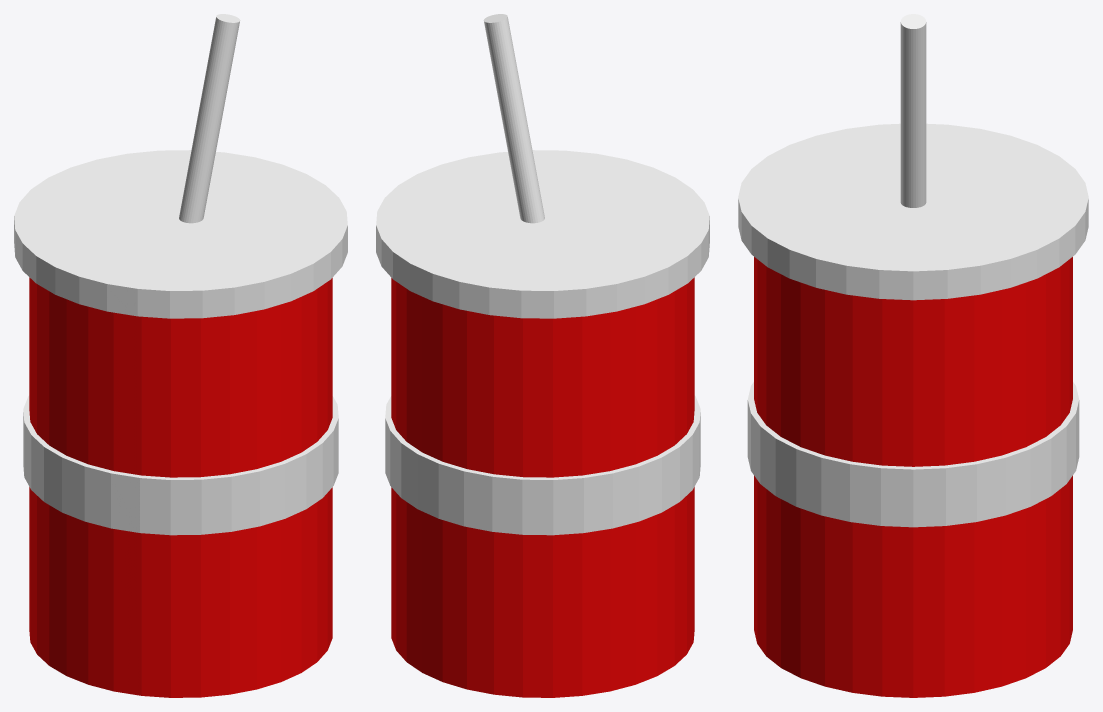
The model's file is cola.glb.
3 renders of one model, left to right at view 1: azimuth 30°, elevation 25°; view 2: azimuth 150°, elevation 25°; view 3: azimuth 270°, elevation 25°, orthographic. The views are drawn at different scales.
Parts seen in each view (by area): view 1: Cylinder, Cylinder.002, Cylinder.001, Cylinder.003; view 2: Cylinder, Cylinder.002, Cylinder.001, Cylinder.003; view 3: Cylinder, Cylinder.002, Cylinder.001, Cylinder.003.
Part boxes in pixels (left/top/right/bottom): Cylinder: left=29, top=277, right=332, bottom=697; Cylinder.002: left=14, top=150, right=347, bottom=318; Cylinder.001: left=23, top=395, right=338, bottom=535; Cylinder.003: left=179, top=14, right=240, bottom=223; Cylinder: left=391, top=277, right=694, bottom=697; Cylinder.002: left=376, top=150, right=709, bottom=318; Cylinder.001: left=385, top=395, right=700, bottom=535; Cylinder.003: left=483, top=14, right=544, bottom=223; Cylinder: left=754, top=257, right=1072, bottom=697; Cylinder.002: left=738, top=123, right=1088, bottom=300; Cylinder.001: left=747, top=382, right=1079, bottom=527; Cylinder.003: left=900, top=14, right=926, bottom=207.
Size of the model in its own units: 1.1 by 2.2 by 1.1.
